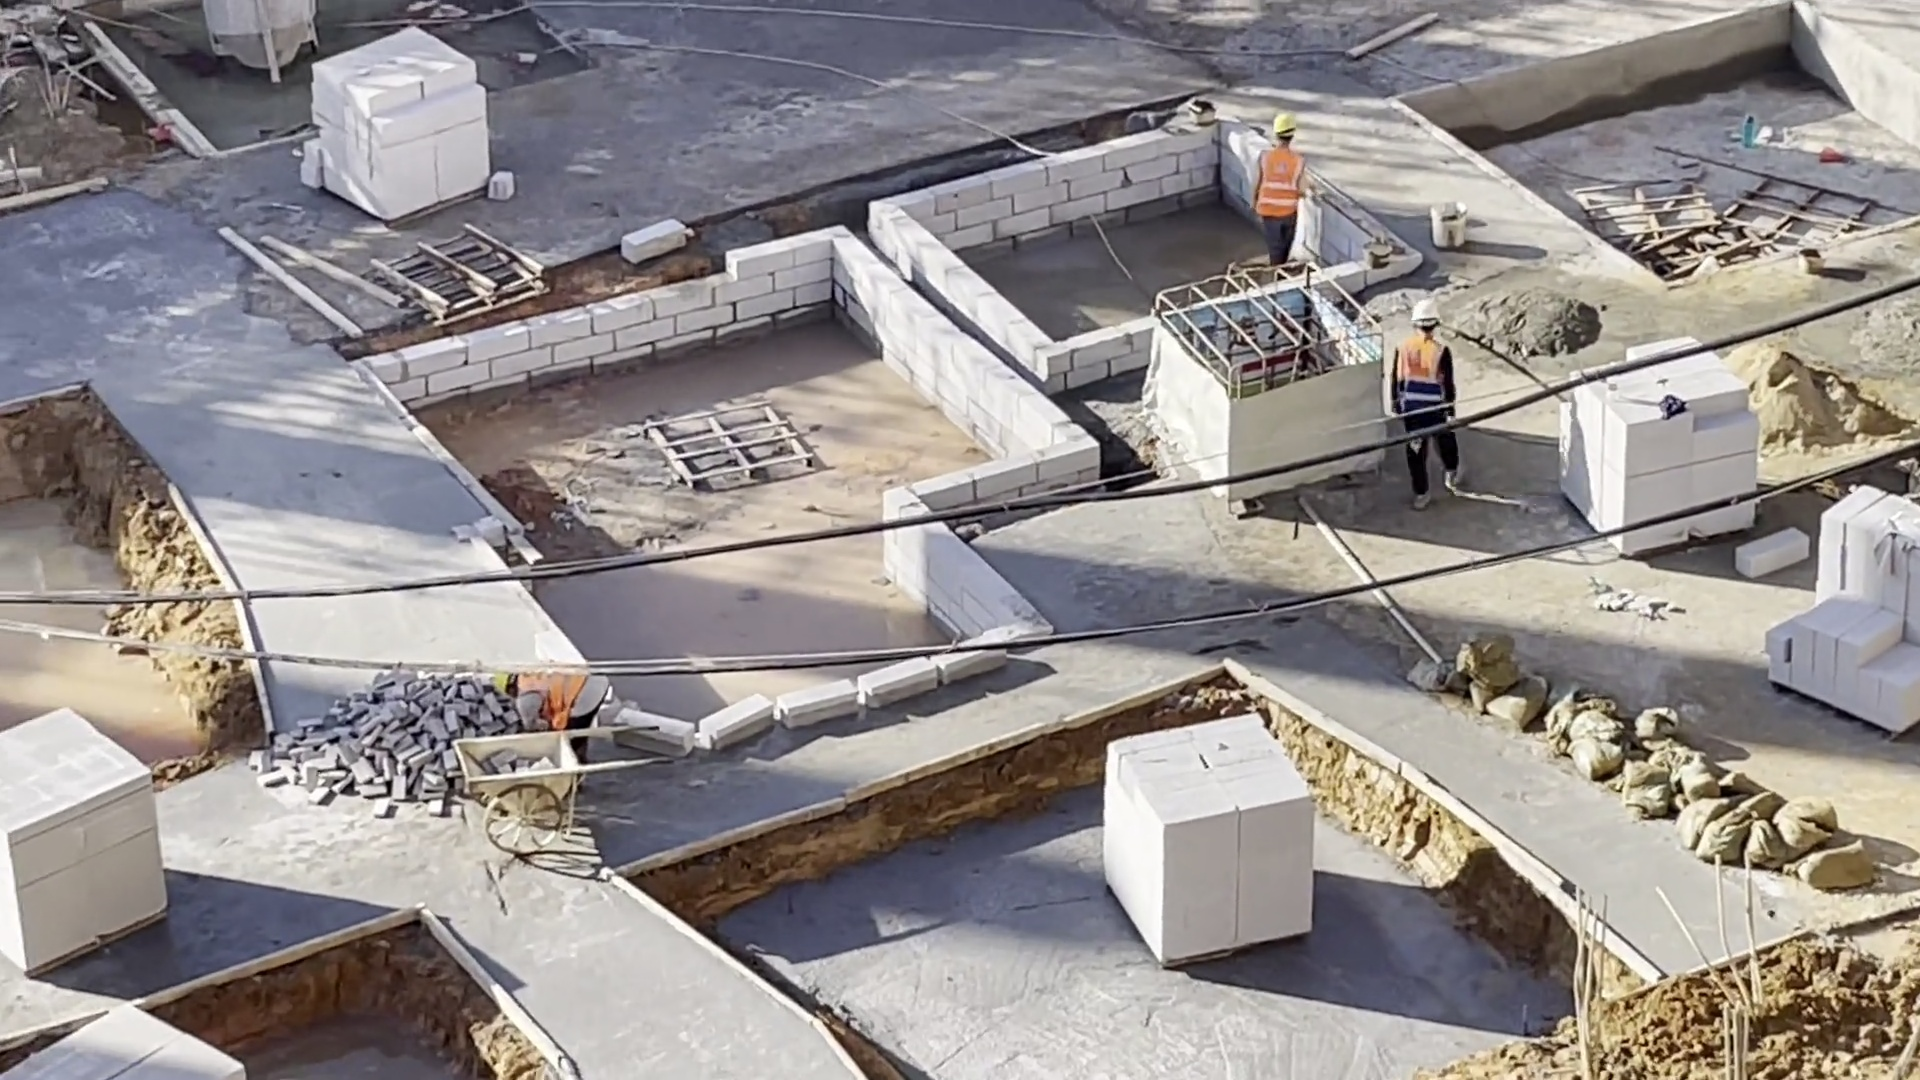helmet: (1418, 304, 1446, 344), (494, 654, 516, 702), (1276, 117, 1303, 134)
person: (496, 651, 603, 766), (1409, 293, 1446, 485), (1249, 116, 1299, 250)
vest: (1396, 342, 1456, 419), (529, 657, 593, 712), (1258, 154, 1308, 216)
